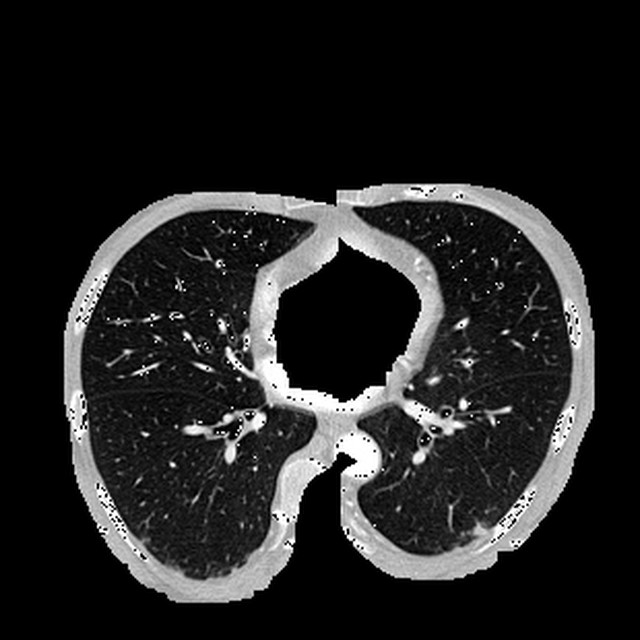PN: (473, 524, 485, 537)
